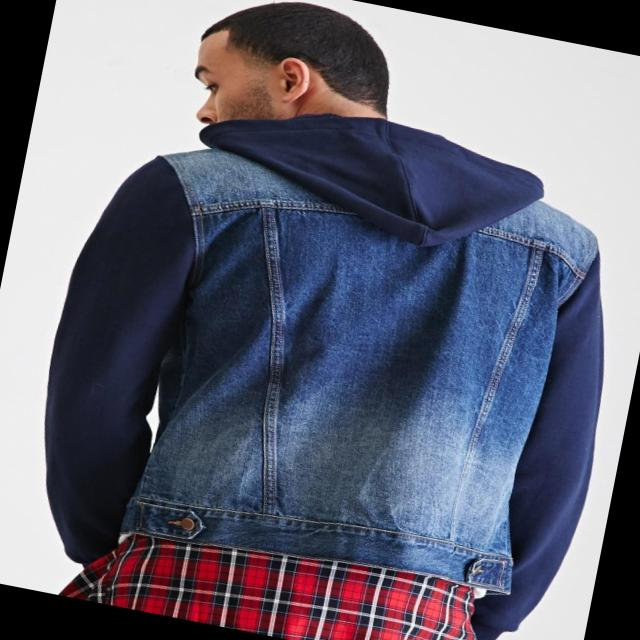Jacket: (13, 84, 640, 630)
